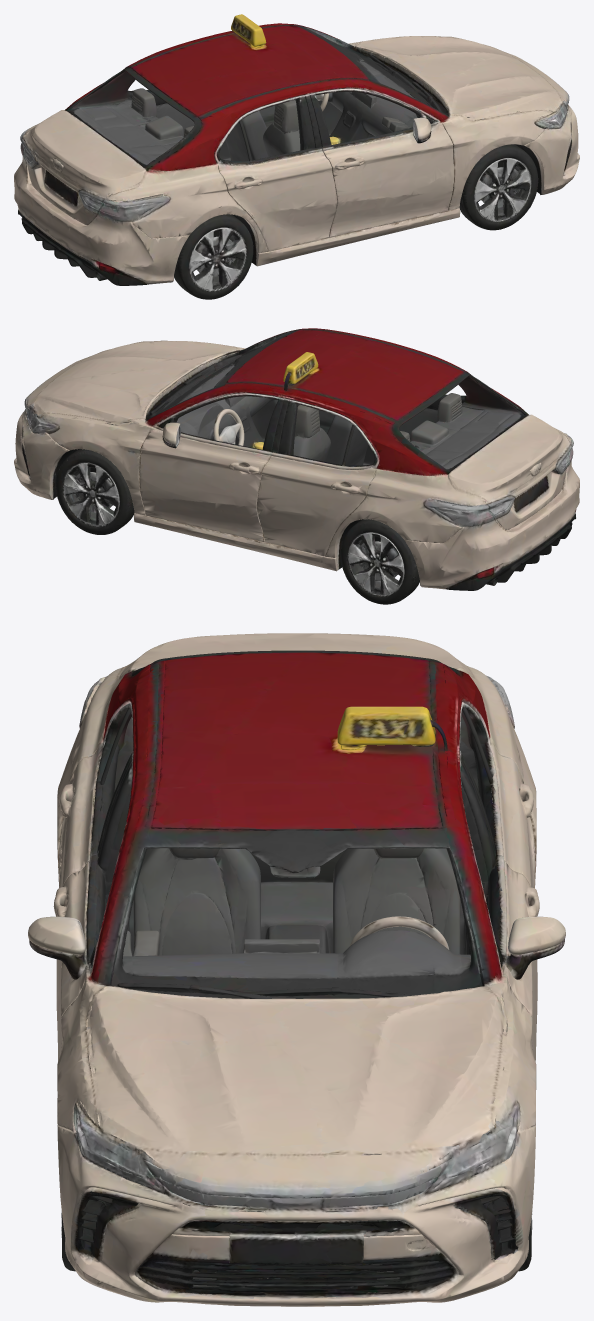
Rendered from Red Taxi-optimized.glb.
3 renders of one model, top to bottom at view 1: azimuth 30°, elevation 25°; view 2: azimuth 150°, elevation 25°; view 3: azimuth 270°, elevation 25°, orthographic. The views are drawn at different scales.
Parts seen in each view (by area): view 1: tripo_node_72ac958f-c5e1-4b9f-8664-a69da2392ecc; view 2: tripo_node_72ac958f-c5e1-4b9f-8664-a69da2392ecc; view 3: tripo_node_72ac958f-c5e1-4b9f-8664-a69da2392ecc.
Part boxes in pixels (x1,y1,x2,y2): tripo_node_72ac958f-c5e1-4b9f-8664-a69da2392ecc: [14, 14, 579, 299]; tripo_node_72ac958f-c5e1-4b9f-8664-a69da2392ecc: [14, 328, 579, 604]; tripo_node_72ac958f-c5e1-4b9f-8664-a69da2392ecc: [28, 633, 565, 1306].
Bounding box in the file's own units: 4.11 × 1.5 × 1.9.
1 material, 1 textured.
